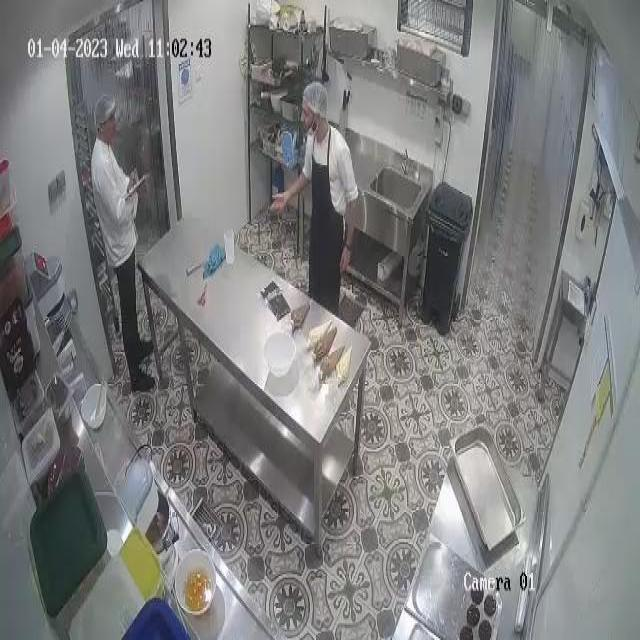hairnet: (301, 79, 329, 119), (94, 94, 115, 121)
